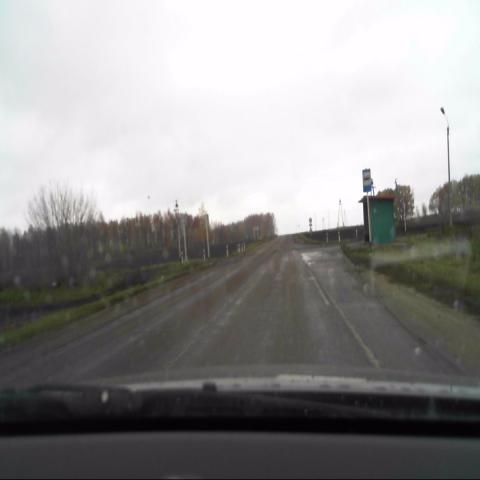5_16: (362, 168, 372, 193)
